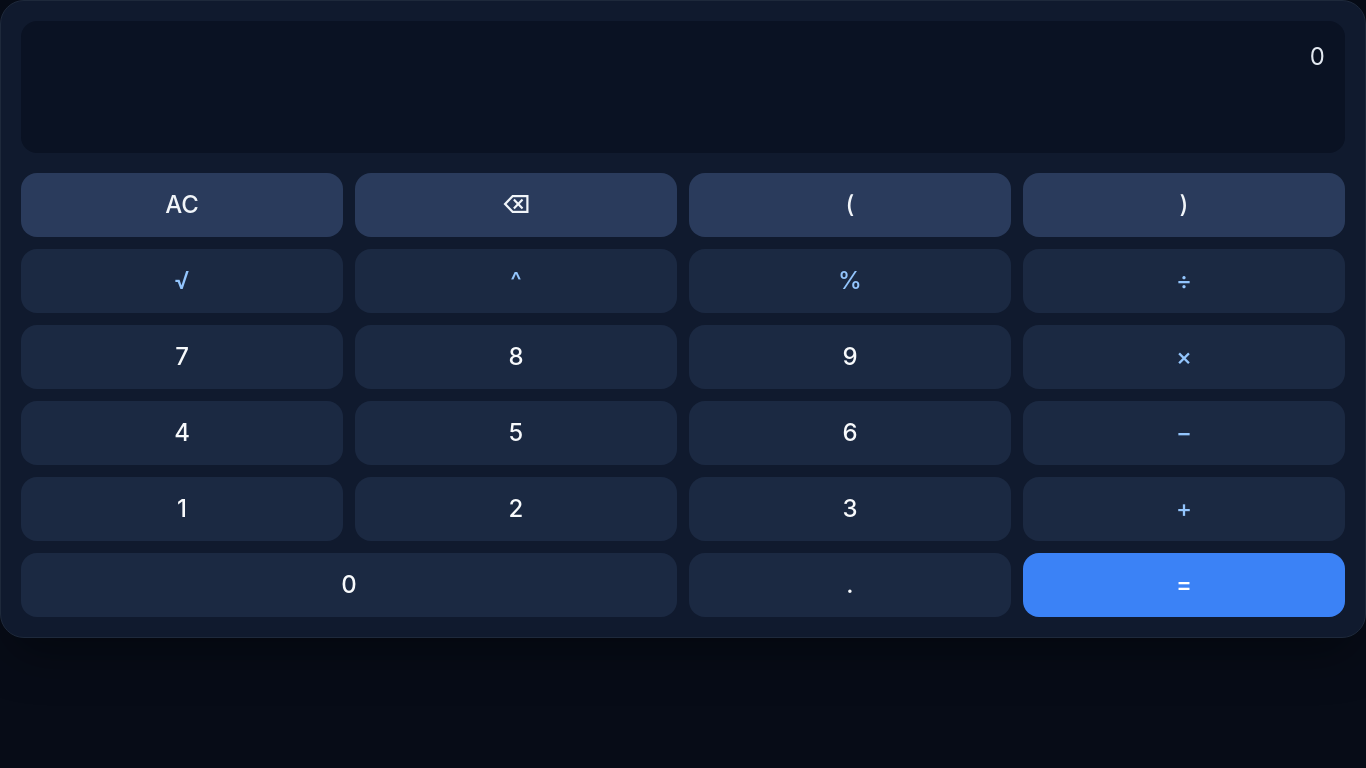
Calculator › writes what the user presses on the keypad
Click the button named "Two": (516, 509) [355,477,677,541]
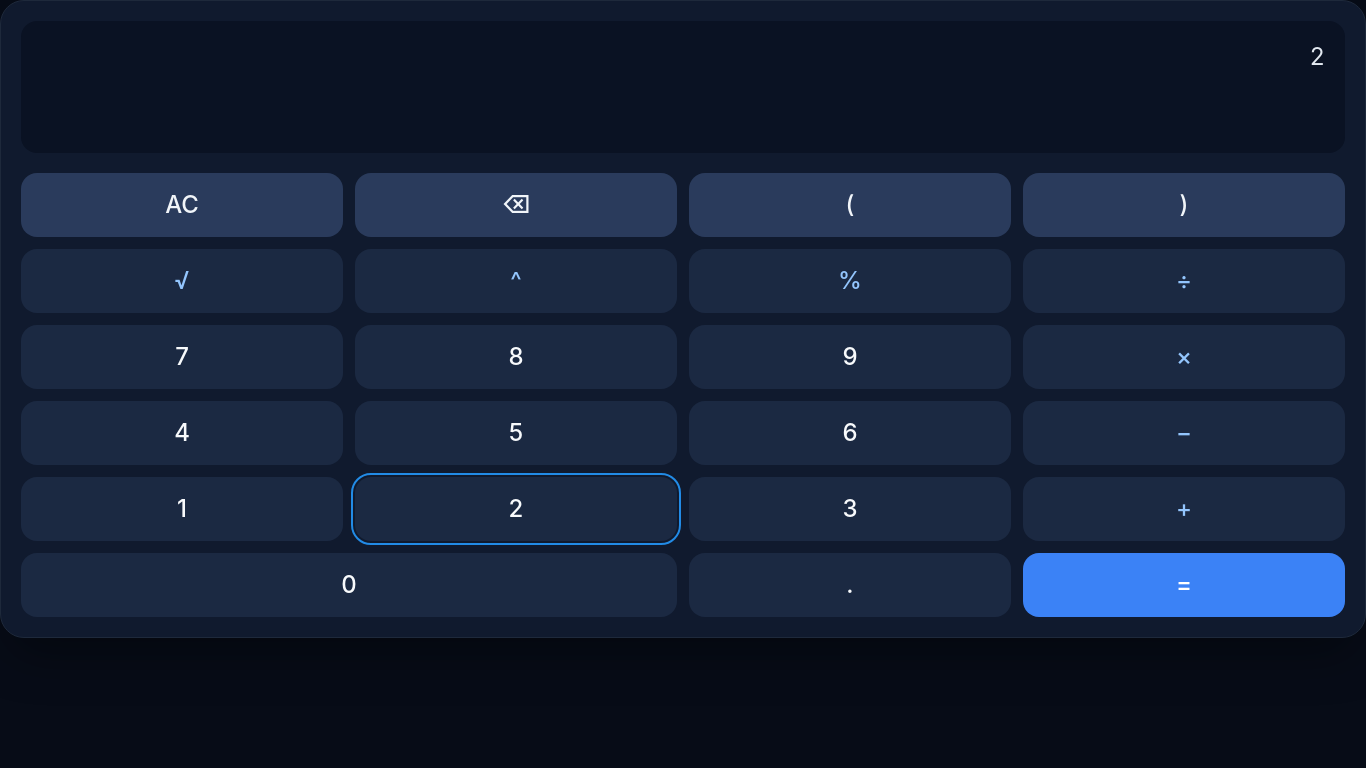
Click the button named "Add": (1184, 509) [1023,477,1345,541]
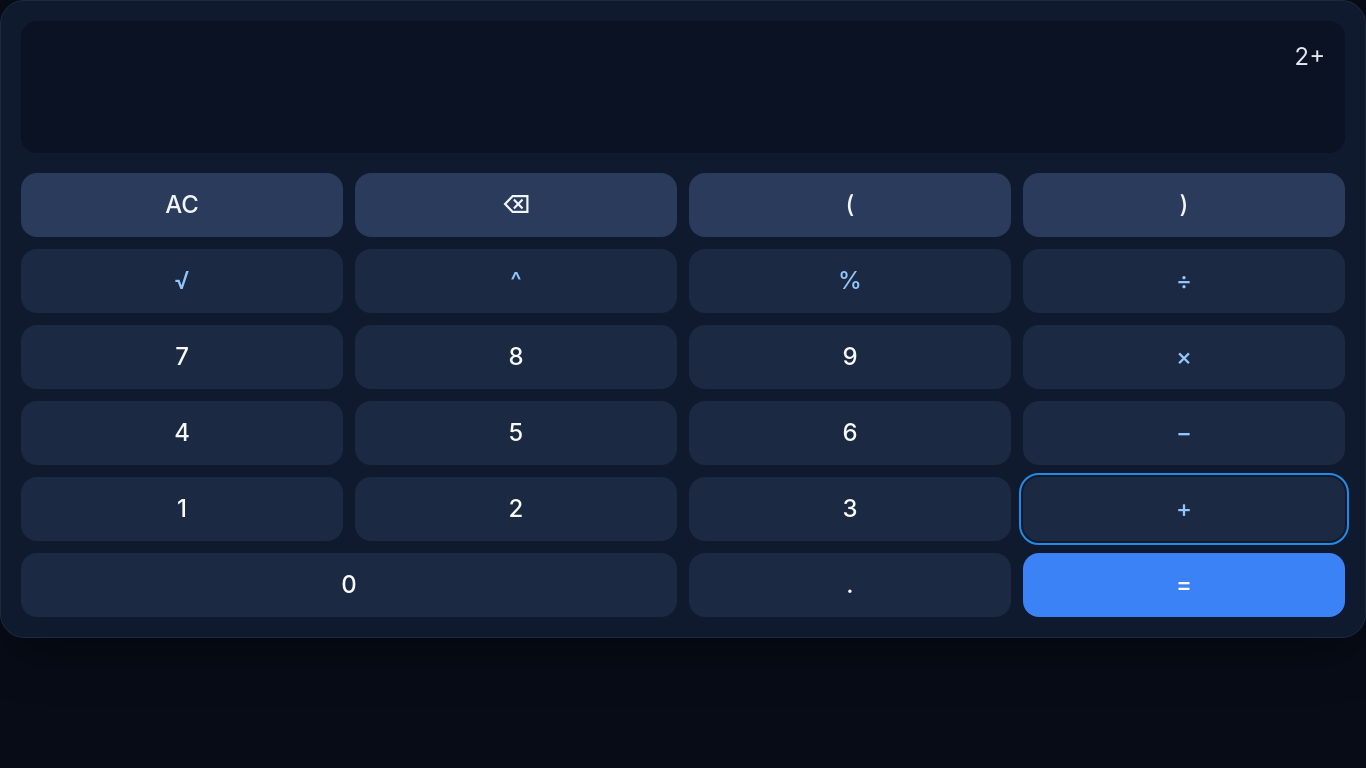
Click the button named "Three": (850, 509) [689,477,1011,541]
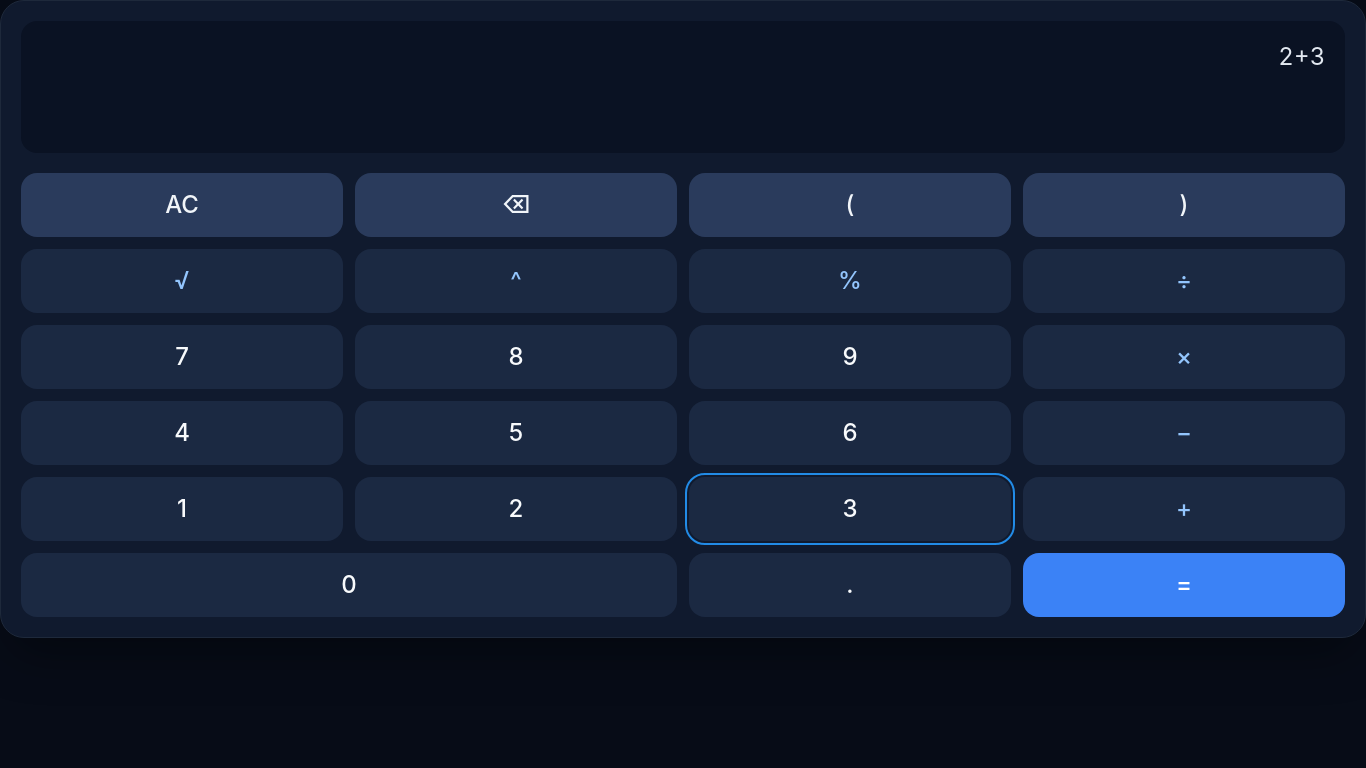
Expected: the element named "Expression" reads "2+3", [1278,42,1325,71]
